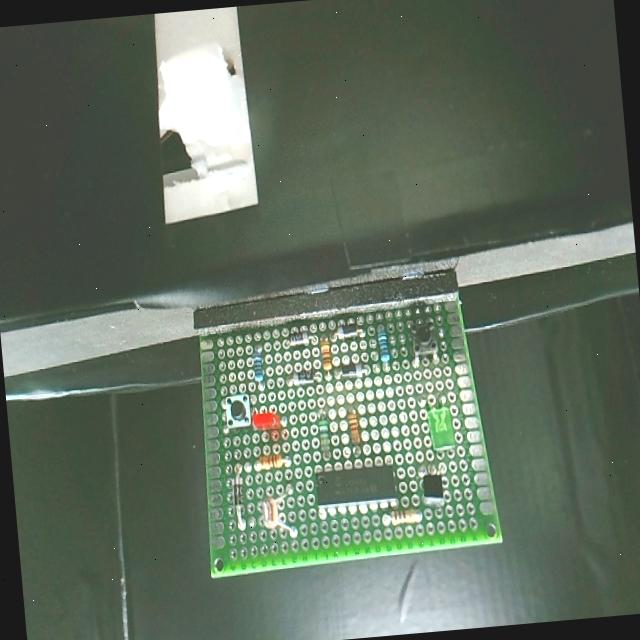IC: (308, 454, 404, 516)
cds: (259, 490, 286, 532)
diode: (333, 310, 364, 340), (286, 326, 314, 354), (290, 364, 314, 391), (336, 362, 364, 384)
led: (426, 398, 456, 458), (251, 408, 280, 437)
resistor: (371, 321, 395, 368), (344, 408, 370, 448), (386, 506, 422, 533), (252, 444, 284, 474), (318, 413, 336, 462), (247, 339, 266, 385), (228, 474, 250, 508), (319, 332, 333, 372)
switch: (406, 318, 439, 360), (223, 388, 253, 431)
transistor: (417, 464, 449, 508)
